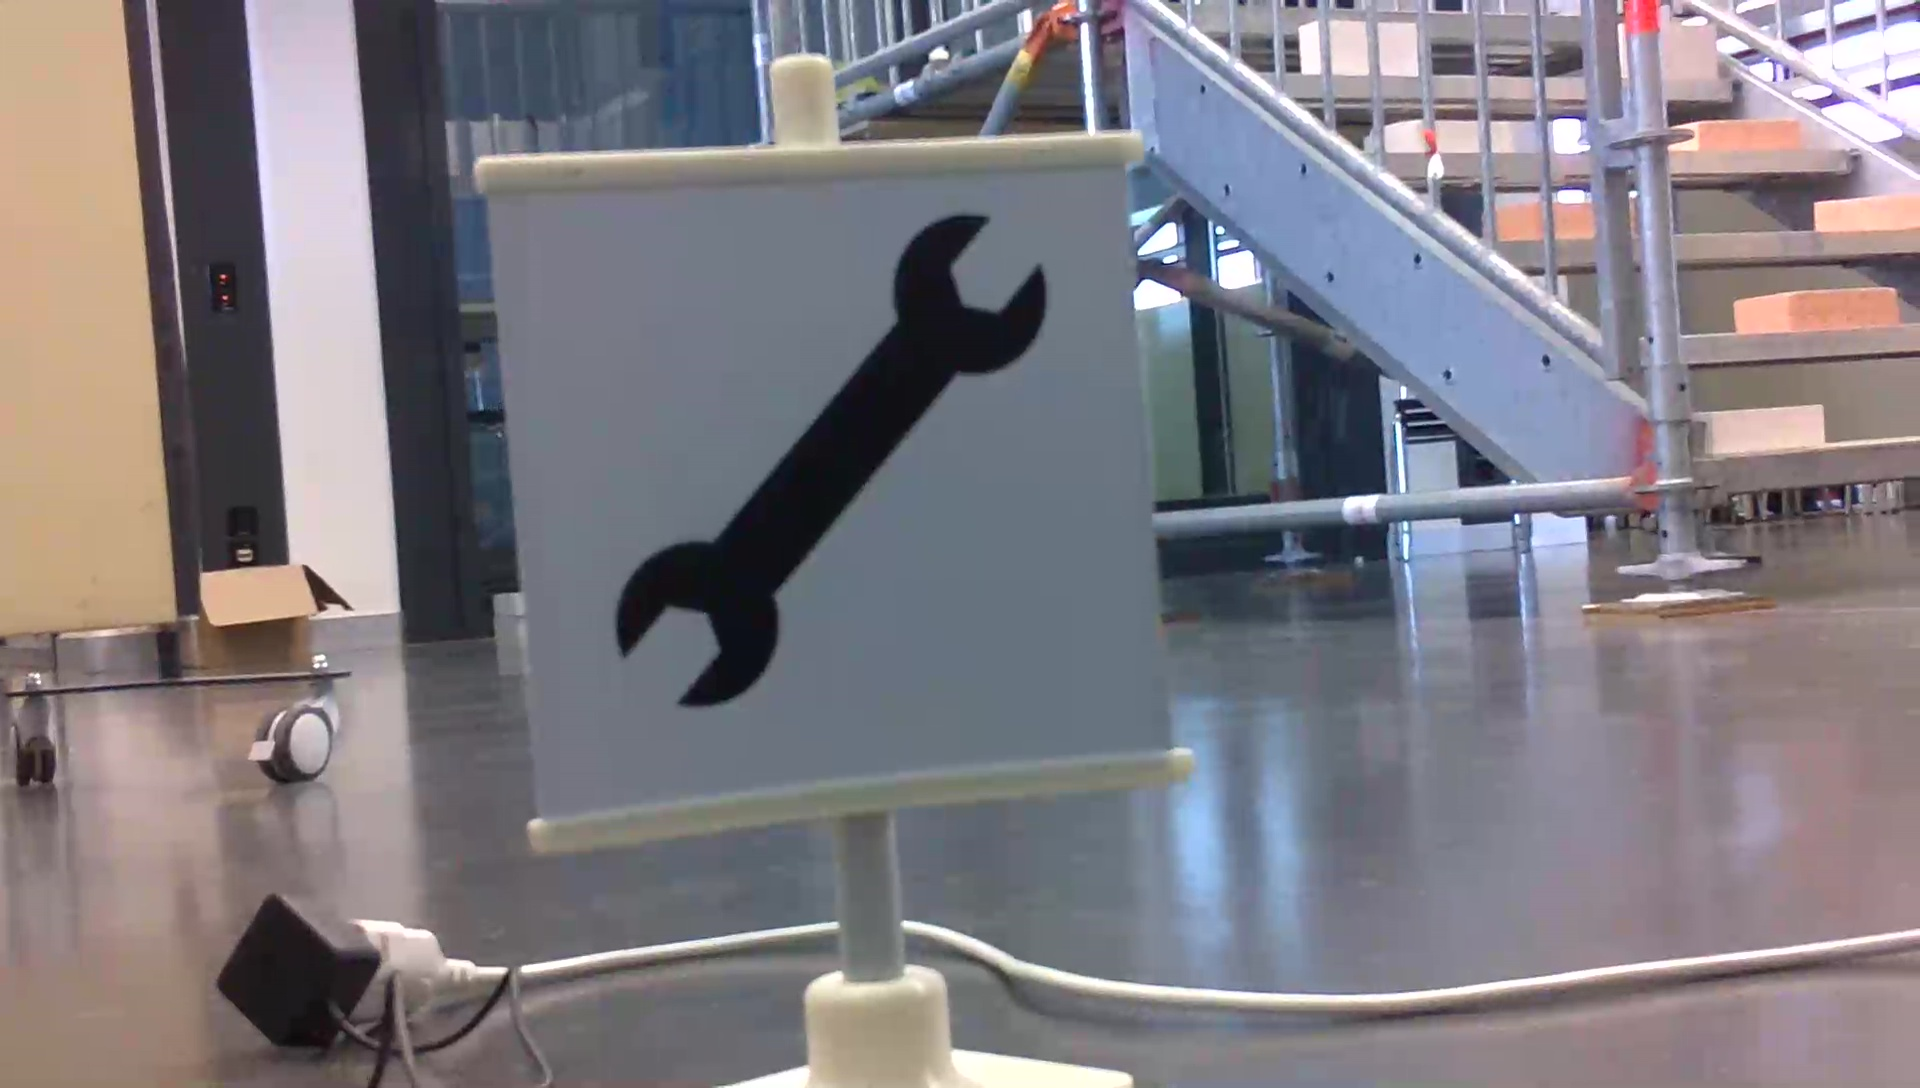brick: (1738, 287, 1894, 330), (1705, 404, 1822, 452), (1812, 193, 1920, 228), (1687, 119, 1797, 150), (1658, 28, 1714, 80)
wrench: (605, 203, 1055, 719)
